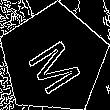M_NE: (21, 27, 87, 92)
